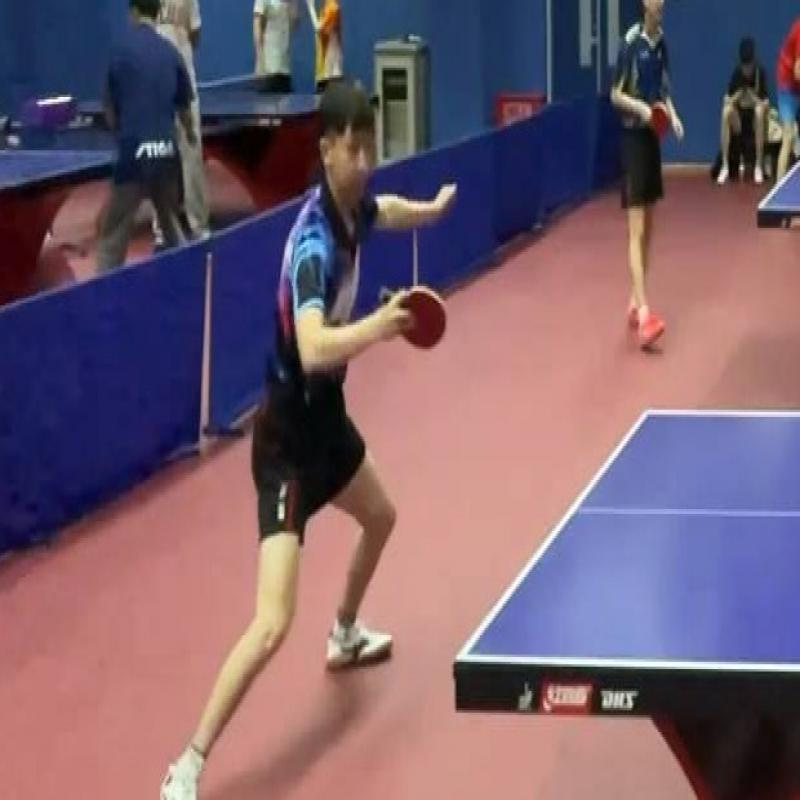bats: (384, 269, 450, 359)
